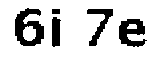6: (11, 3, 46, 50)
7: (82, 4, 115, 49)
e: (119, 16, 152, 55)
i: (49, 6, 72, 51)
